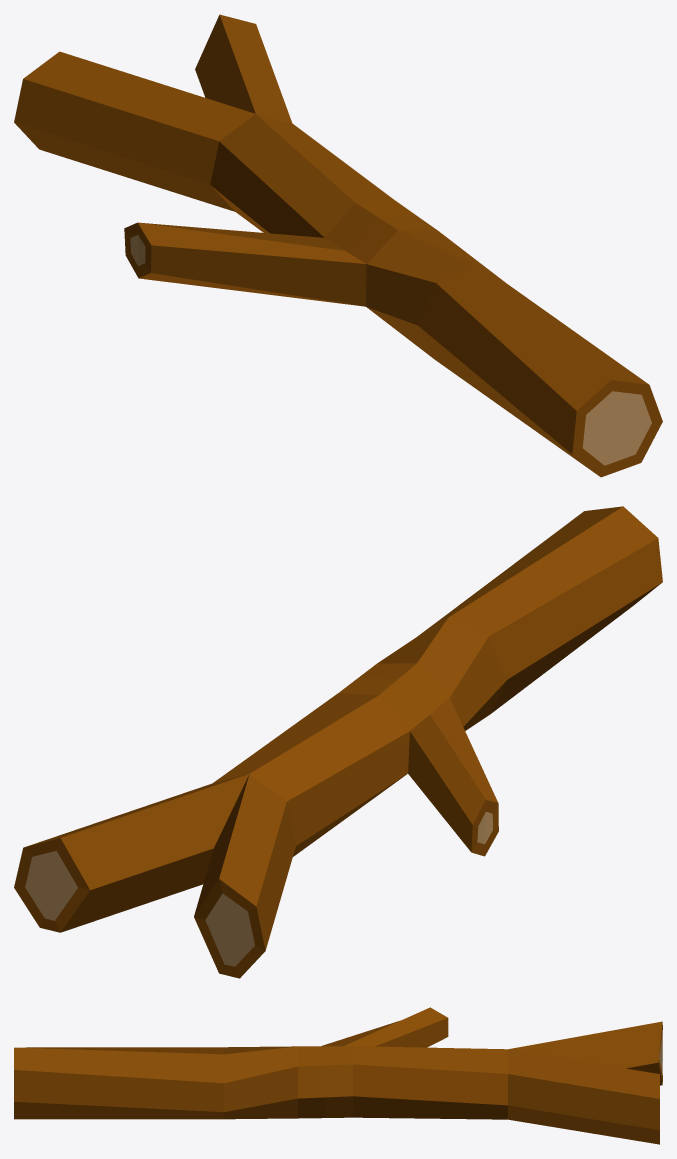
File: patyk.glb
3 views of the same model, one above another, from view 1: azimuth 30°, elevation 25°; view 2: azimuth 150°, elevation 25°; view 3: azimuth 270°, elevation 25° (orthographic). The views are drawn at different scales.
Visible parts, largest first — view 1: Cylinder; view 2: Cylinder; view 3: Cylinder.
Boxes of the visible parts, x1=… form: Cylinder: x1=14, y1=14, x2=662, y2=477; Cylinder: x1=14, y1=506, x2=662, y2=978; Cylinder: x1=14, y1=1007, x2=662, y2=1144.
Bounding box in the file's own units: 0.0736 × 0.0231 × 0.2047.
